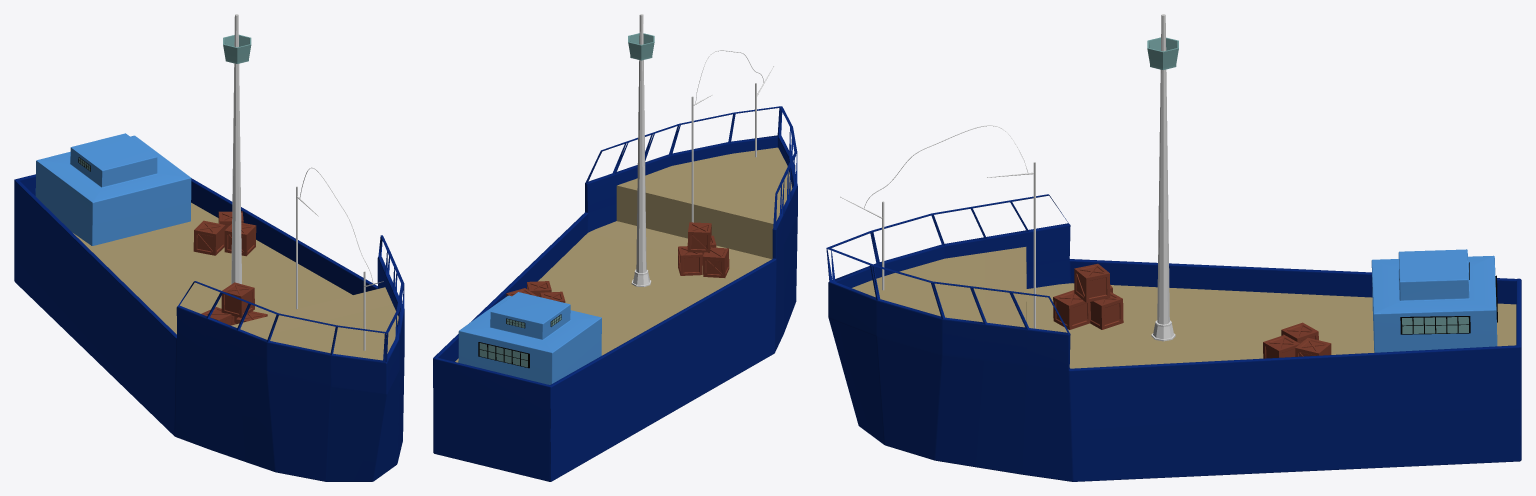
The model's file is Blue Lench.fbx.
3 views of the same model, side by side, from view 1: azimuth 30°, elevation 25°; view 2: azimuth 150°, elevation 25°; view 3: azimuth 270°, elevation 25° (orthographic). The views are drawn at different scales.
Visible parts, largest first — view 1: pasted__pPlane5, pasted__pPlane6, polySurface30, group3_pasted__pCylinder1, pasted__polySurface46, pasted__polySurface40; view 2: pasted__pPlane5, pasted__pPlane6, polySurface30, group3_pasted__pCylinder1, pasted__polySurface40, polySurface40, pasted__polySurface46; view 3: pasted__pPlane5, pasted__pPlane6, polySurface30, group3_pasted__pCylinder1, pasted__polySurface40, pasted__polySurface46, polySurface33.
Boxes of the visible parts, x1,y1,x2,y2 form: pasted__pPlane5: (14, 174, 404, 481); pasted__pPlane6: (73, 202, 398, 360); polySurface30: (35, 133, 191, 245); group3_pasted__pCylinder1: (223, 14, 251, 284); pasted__polySurface46: (193, 211, 256, 256); pasted__polySurface40: (201, 282, 267, 325); pasted__pPlane5: (433, 106, 797, 481); pasted__pPlane6: (455, 147, 792, 362); polySurface30: (458, 292, 601, 384); group3_pasted__pCylinder1: (628, 14, 654, 286); pasted__polySurface40: (678, 222, 729, 277); polySurface40: (478, 342, 529, 368); pasted__polySurface46: (506, 281, 565, 302); pasted__pPlane5: (826, 194, 1521, 481); pasted__pPlane6: (852, 247, 1516, 368); polySurface30: (1371, 249, 1497, 352); group3_pasted__pCylinder1: (1147, 14, 1178, 341); pasted__polySurface40: (1053, 263, 1123, 329); pasted__polySurface46: (1263, 322, 1331, 358); polySurface33: (1400, 316, 1470, 334).
Size of what is drawn, in the model's own units: 5.08 by 8.71 by 13.3.
